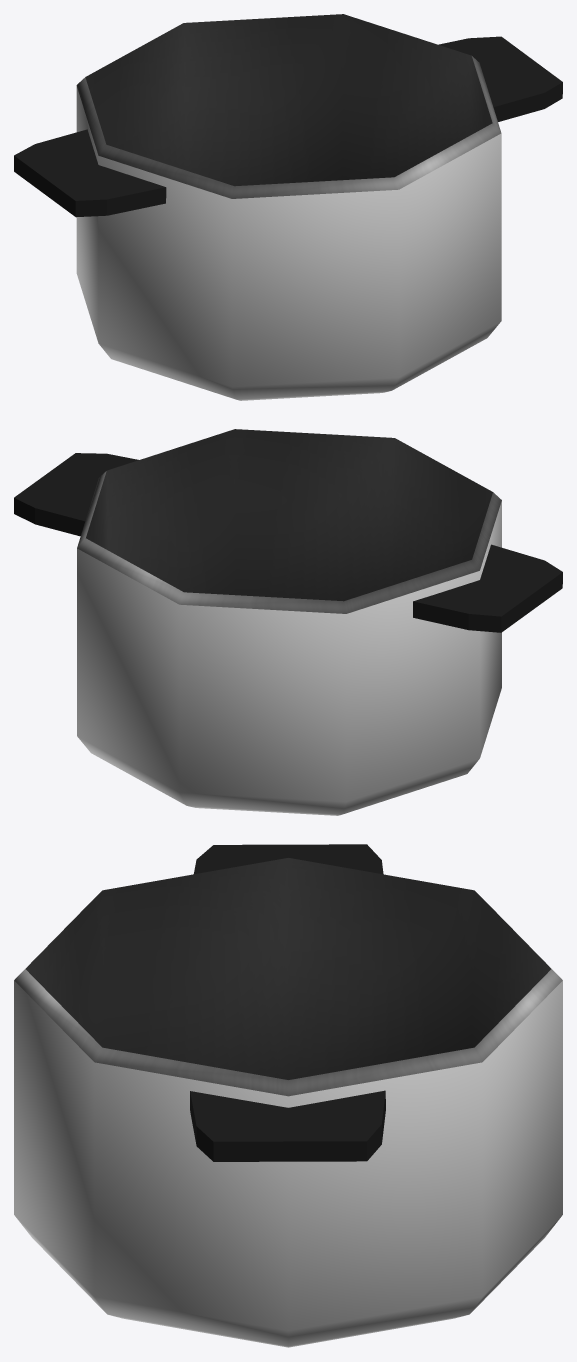
Rendered from Cooking_Pot_C.FBX.
3 renders of one model, top to bottom at view 1: azimuth 30°, elevation 25°; view 2: azimuth 150°, elevation 25°; view 3: azimuth 270°, elevation 25°, orthographic. The views are drawn at different scales.
Visible parts, largest first — view 1: Cooking_Pot; view 2: Cooking_Pot; view 3: Cooking_Pot.
Part boxes in pixels (bbox=[...]): Cooking_Pot: bbox=[14, 14, 562, 400]; Cooking_Pot: bbox=[14, 429, 562, 815]; Cooking_Pot: bbox=[14, 844, 562, 1347].
Bounding box in the file's own units: 102 × 45 × 80.
